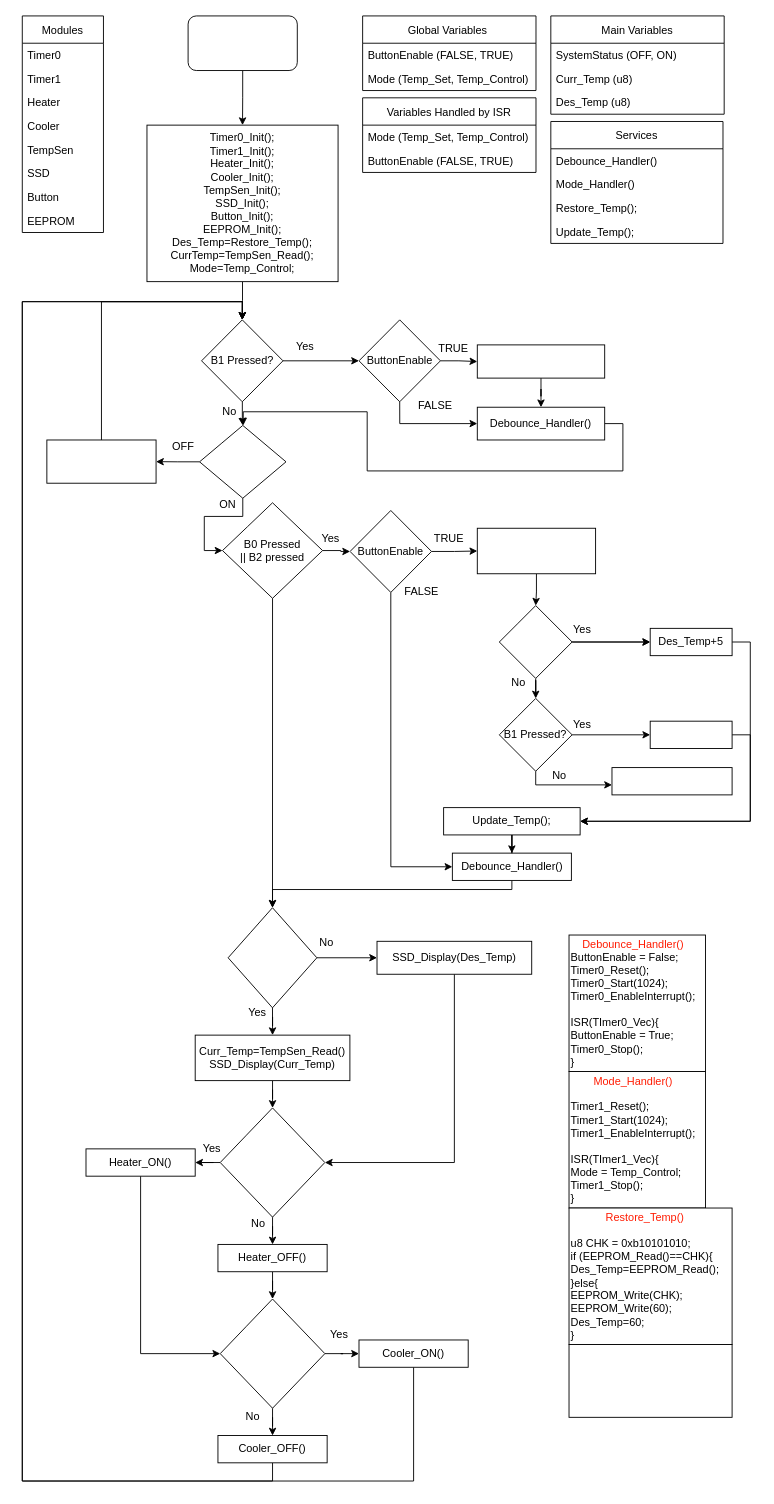
Image size: 774x1504. Some labels were removed from this diagram. The shapes that lost their labels are listed below. From the top down, each one's centre as x and y in pixels, then its label:
point (242, 43): Start Program
point (540, 361): Toggle SystemStatus
point (101, 461): Heater_OFF(); Cooler_OFF();
point (242, 461): System Status
point (536, 550): Mode_Handler() Mode = Temp_Set
point (535, 641): B0 Pressed?
point (690, 734): Des_Temp-5
point (671, 781): Fire "Button Error"
point (272, 957): Mode == Temp_Control
point (272, 1162): (Curr_Temp+5) < Des_Temp
point (272, 1353): (Curr_Temp-5) > Des_Temp
point (650, 1380): Update_Temp() @2nd Address EEPROM_Write(Des_Temp);
